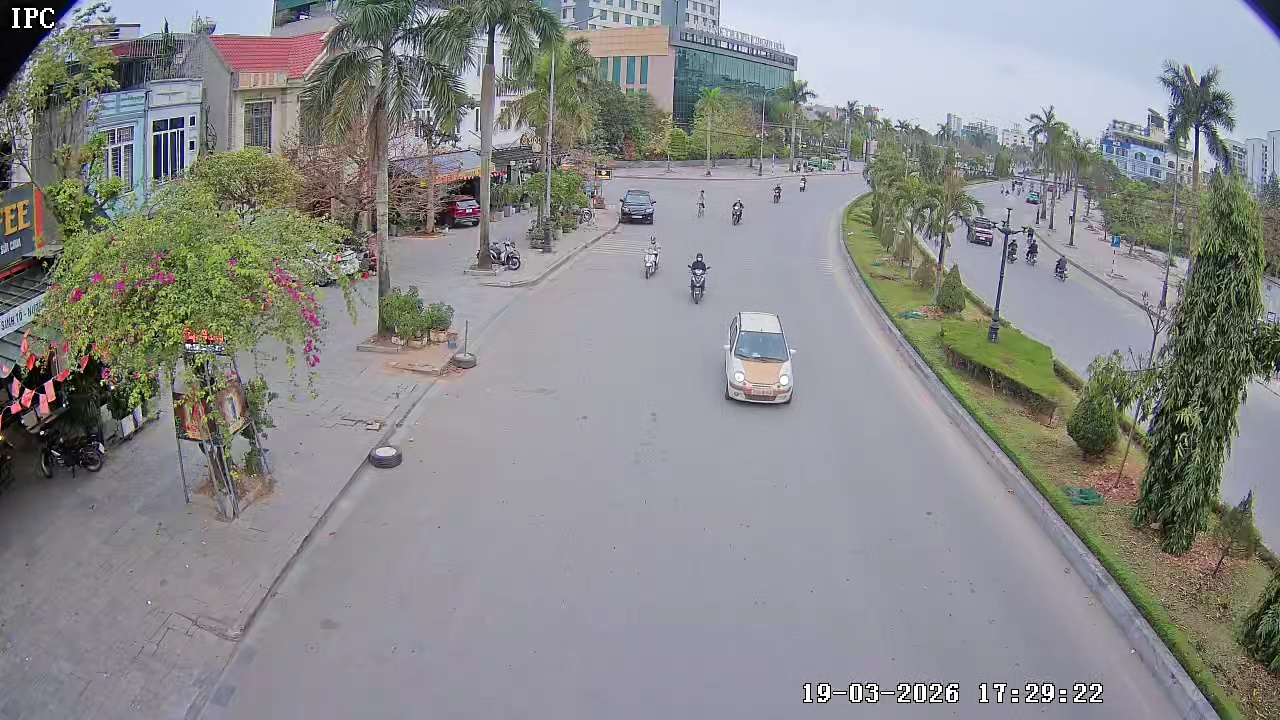car: (721, 308, 798, 406), (617, 186, 657, 225)
motorbike: (687, 250, 711, 305), (641, 234, 662, 280), (730, 196, 745, 226), (694, 191, 707, 219), (770, 177, 784, 203)
